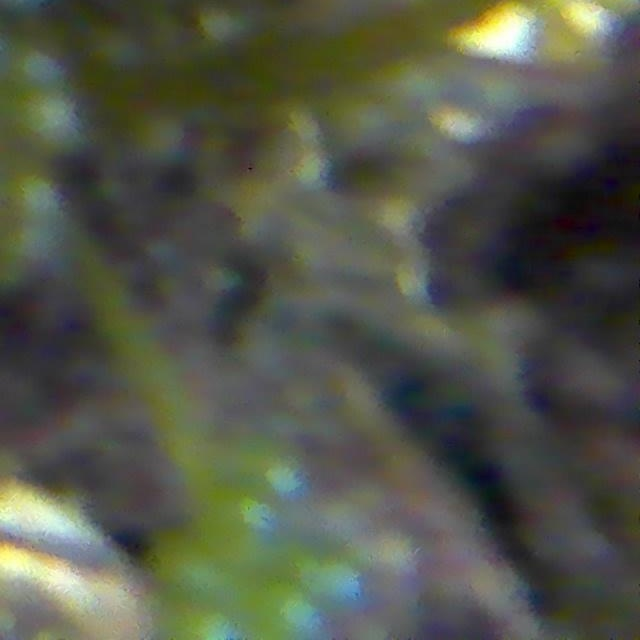SeaGrape: (191, 480, 289, 578), (285, 539, 364, 616), (11, 85, 90, 161), (247, 580, 331, 639), (8, 43, 66, 97), (176, 601, 237, 639)
